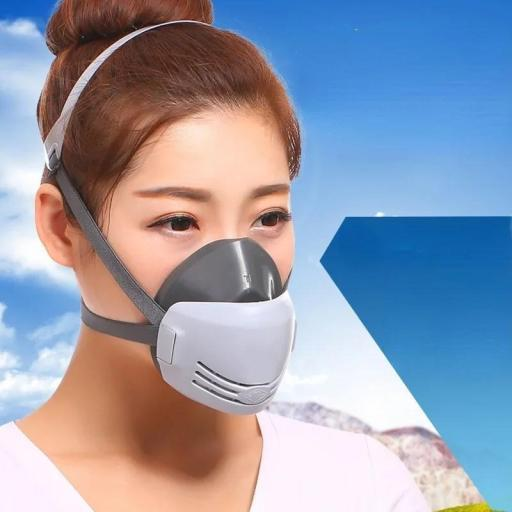mask: (128, 238, 342, 426)
